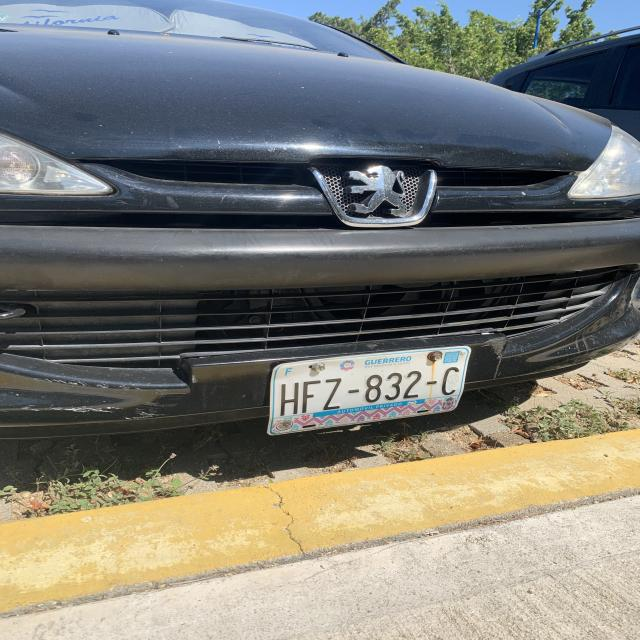placa: (273, 368, 465, 413)
